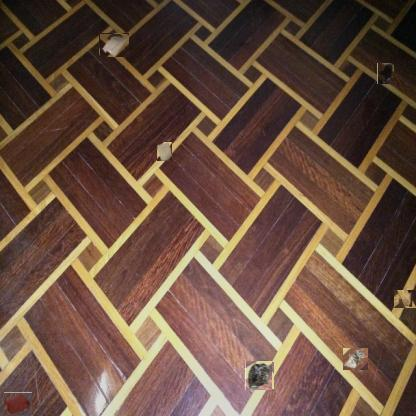dirty: (245, 361, 273, 390), (99, 33, 129, 57), (343, 348, 367, 372), (394, 290, 416, 309), (156, 141, 172, 161)
liquid: (5, 392, 32, 415), (377, 62, 394, 84)
